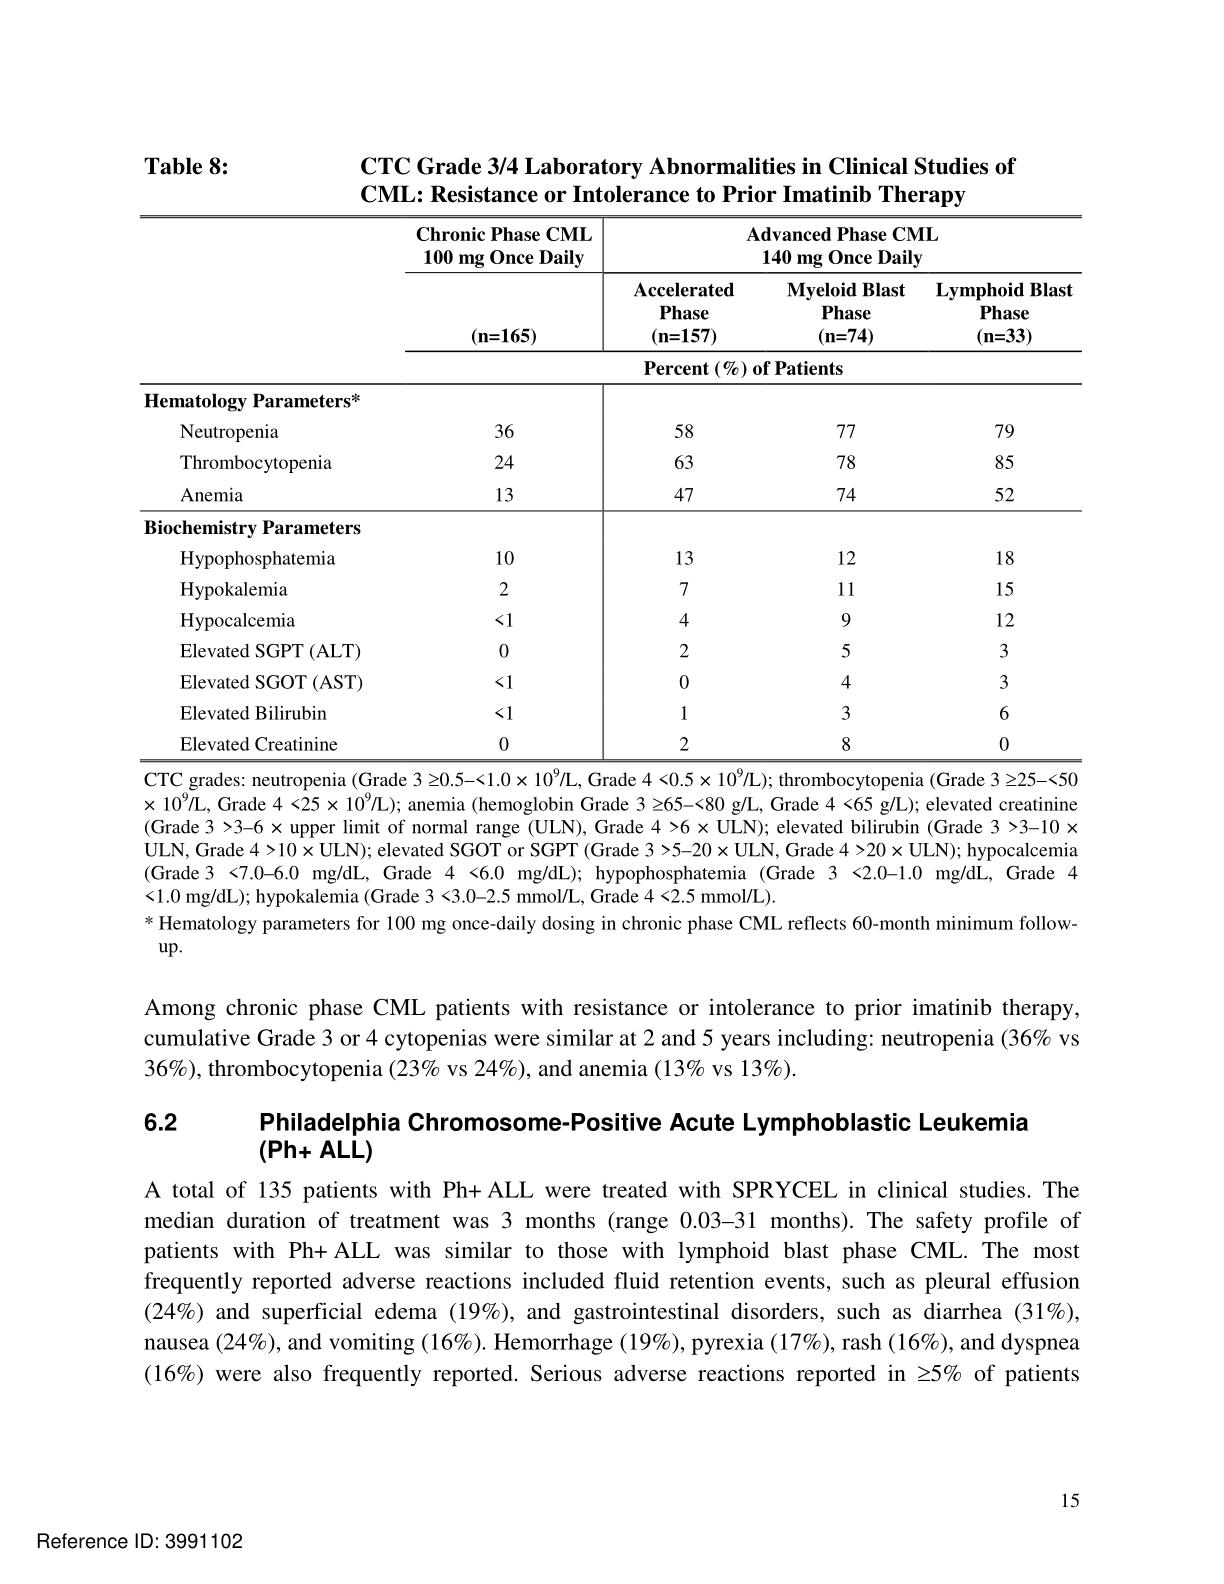partial_lined_merged_cells: (139, 215, 1083, 762)
